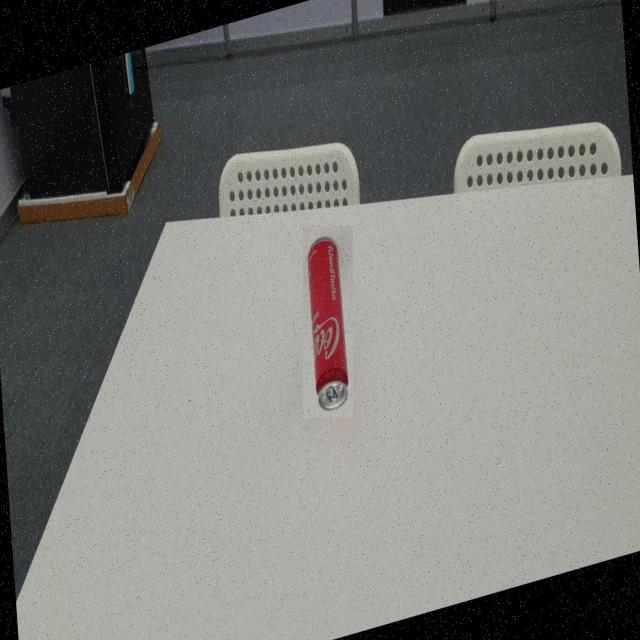coca-cola: (303, 226, 353, 418)
